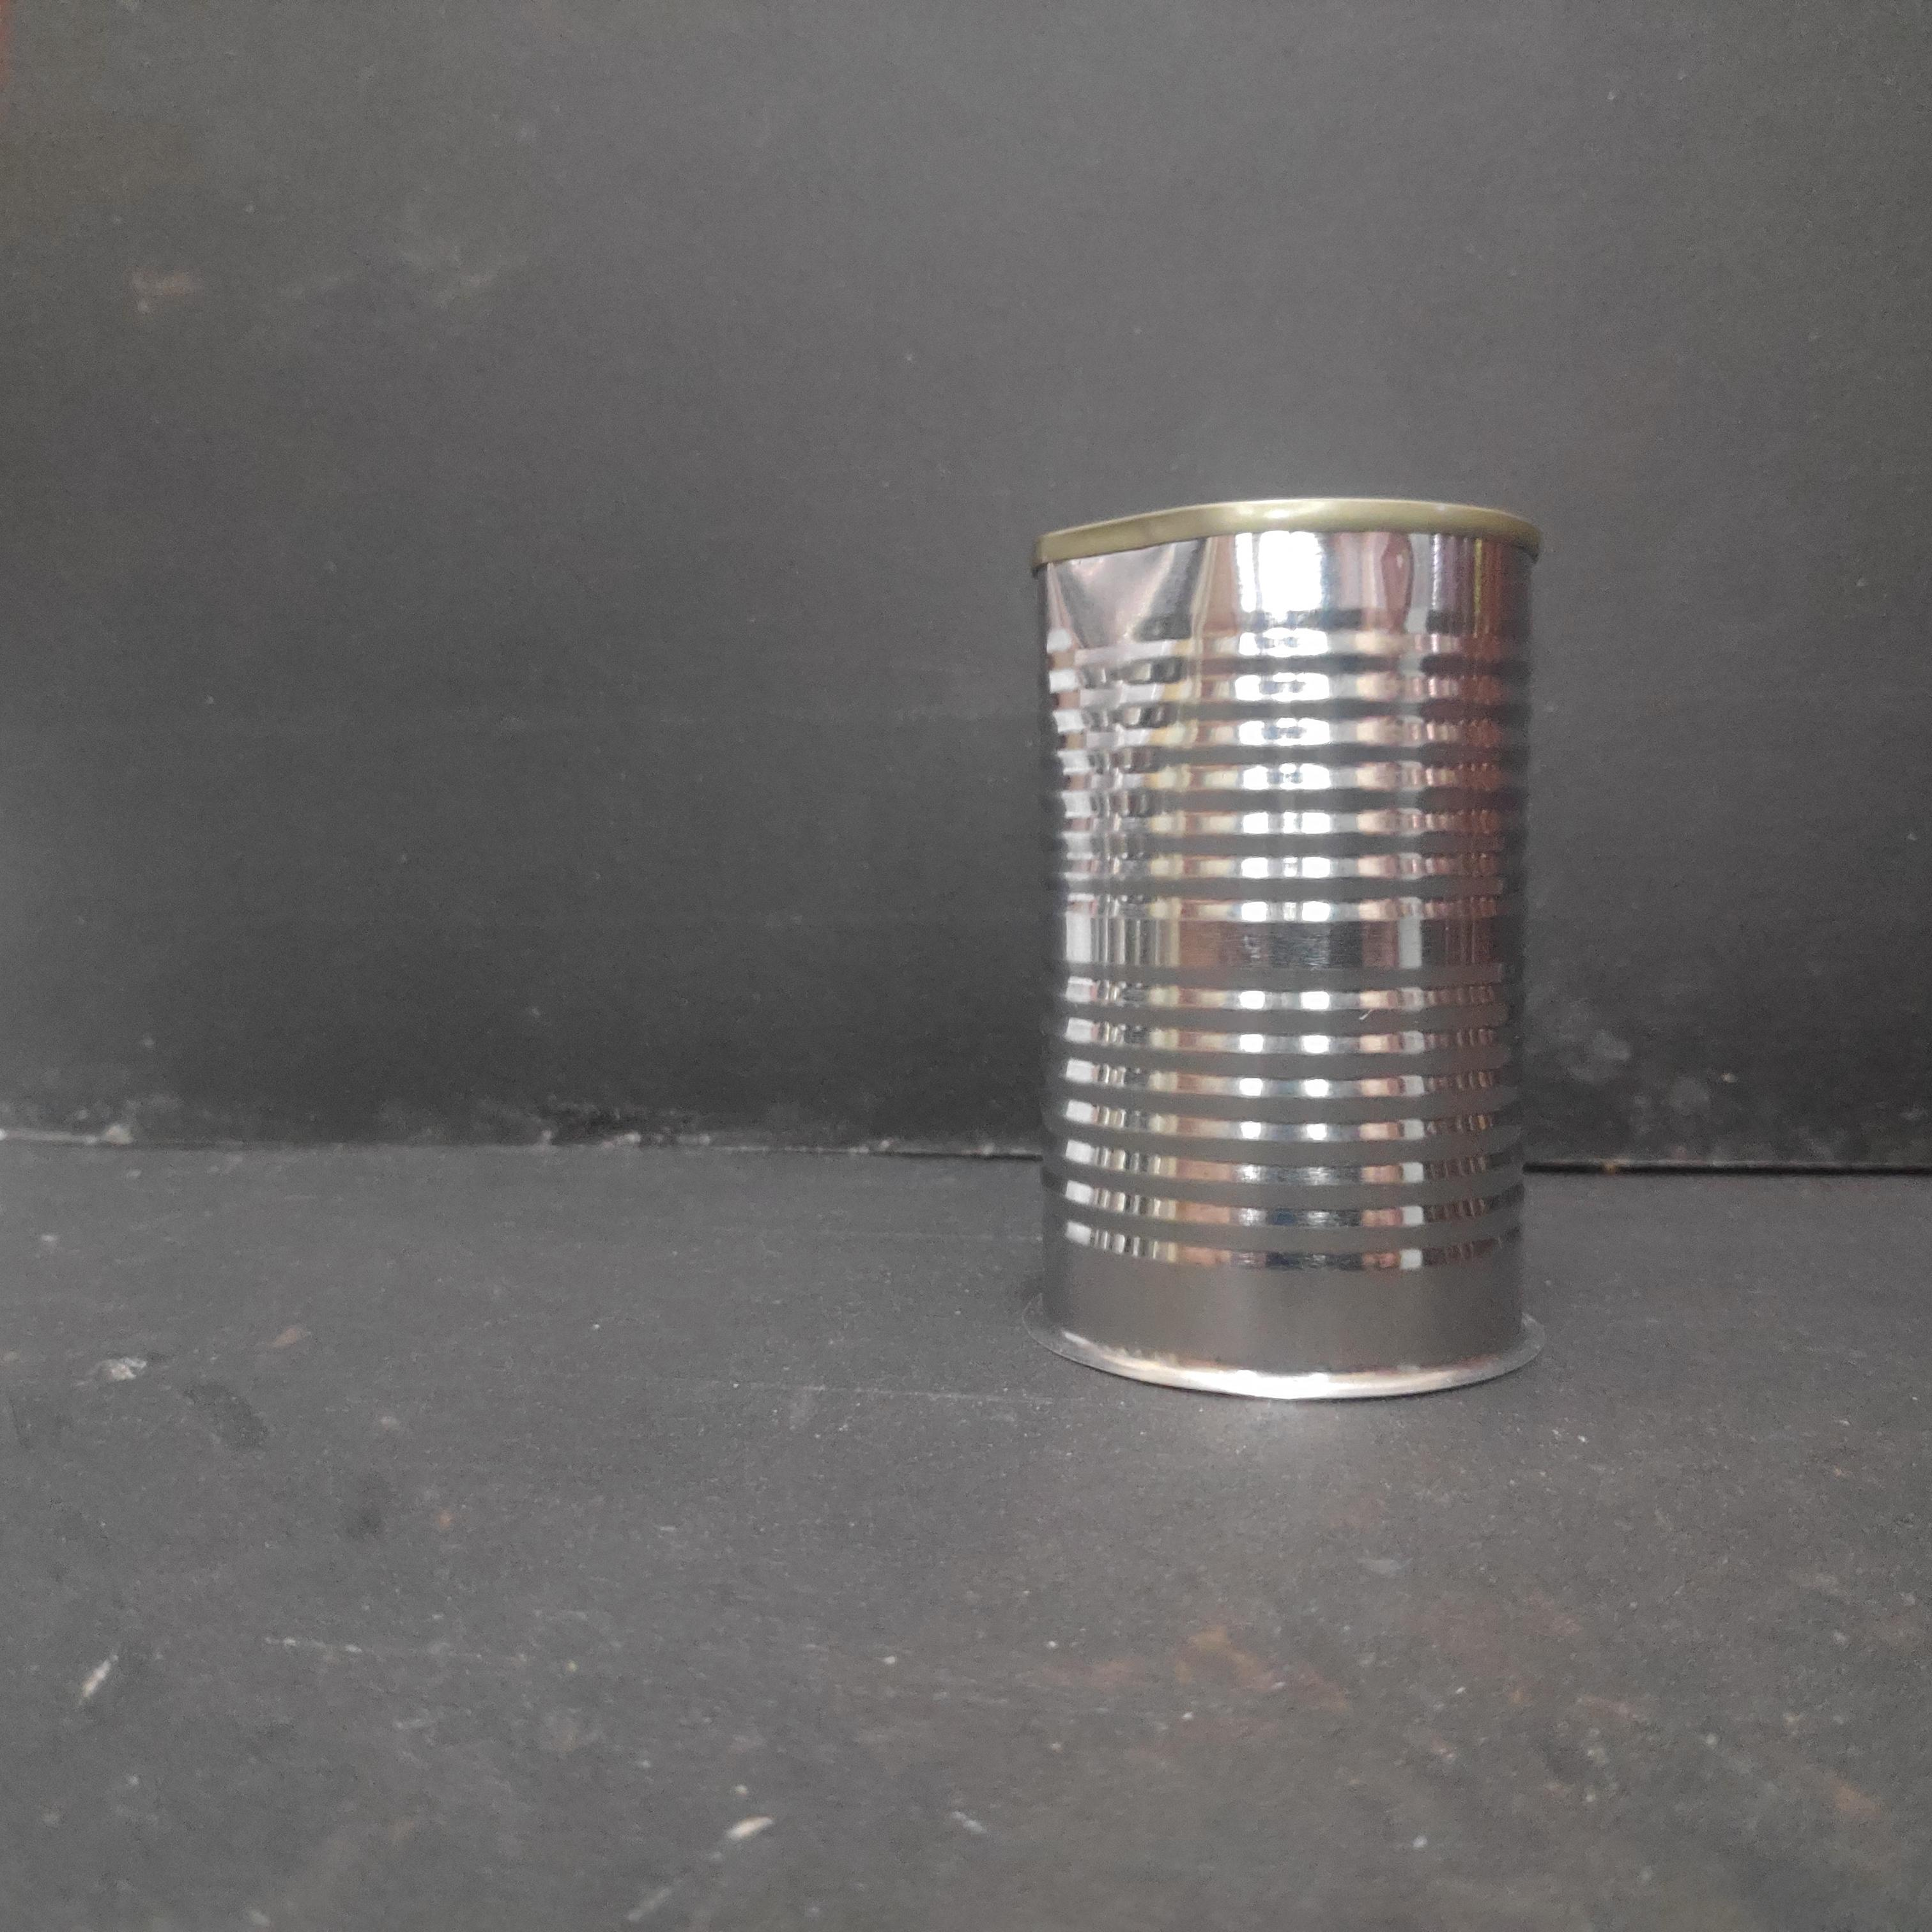Minor Defect: (1023, 490, 1555, 1399)
